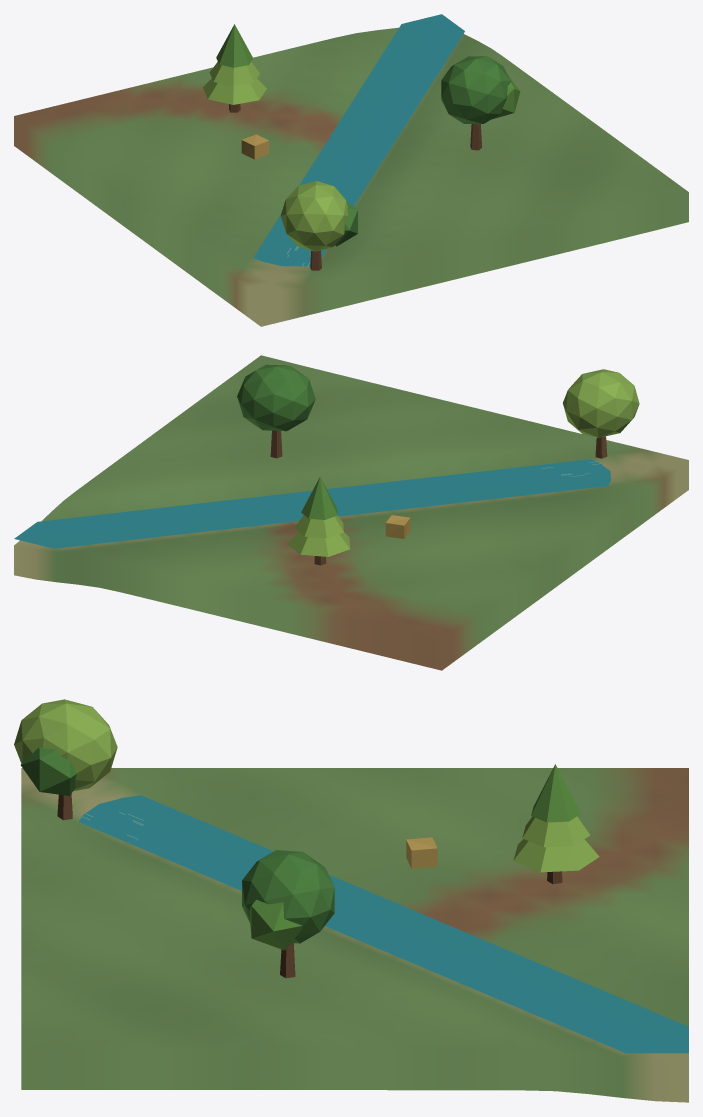
3 views of the same model, one above another, from view 1: azimuth 30°, elevation 25°; view 2: azimuth 150°, elevation 25°; view 3: azimuth 270°, elevation 25° (orthographic). The views are drawn at different scales.
Parts seen in each view (by area): view 1: terrain, scenery; view 2: terrain, scenery; view 3: terrain, scenery.
Boxes of the visible parts, x1,y1,x2,y2 form: terrain: (14, 27, 688, 326); scenery: (203, 14, 520, 270); terrain: (14, 355, 688, 670); scenery: (14, 364, 639, 565); terrain: (21, 768, 688, 1102); scenery: (14, 699, 688, 1053).
Size of the model in its own units: 30 by 8.58 by 30.33.
